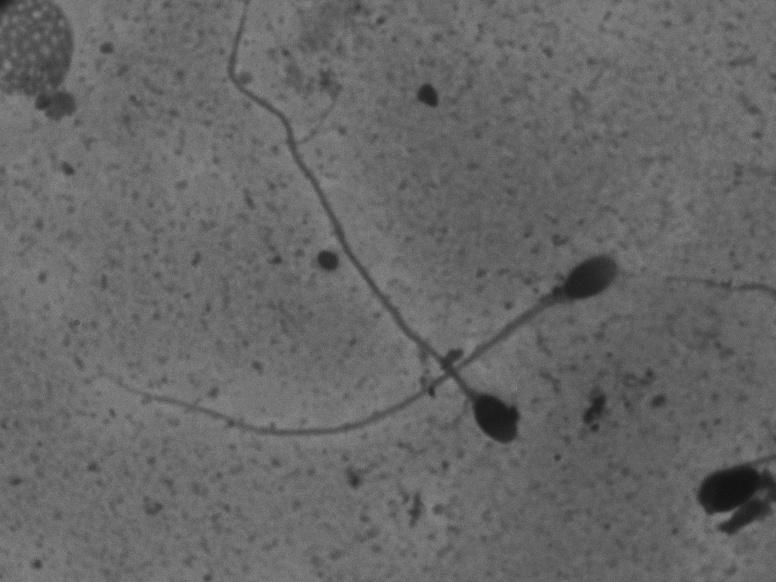Normal: (211, 8, 520, 447), (83, 241, 630, 450)
